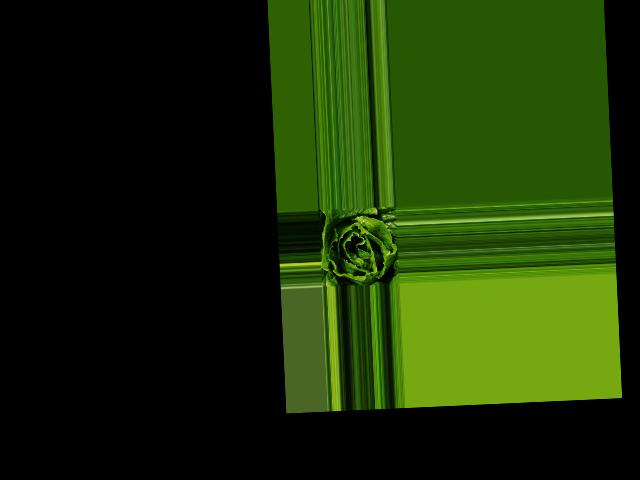lettuce: (319, 205, 398, 286)
